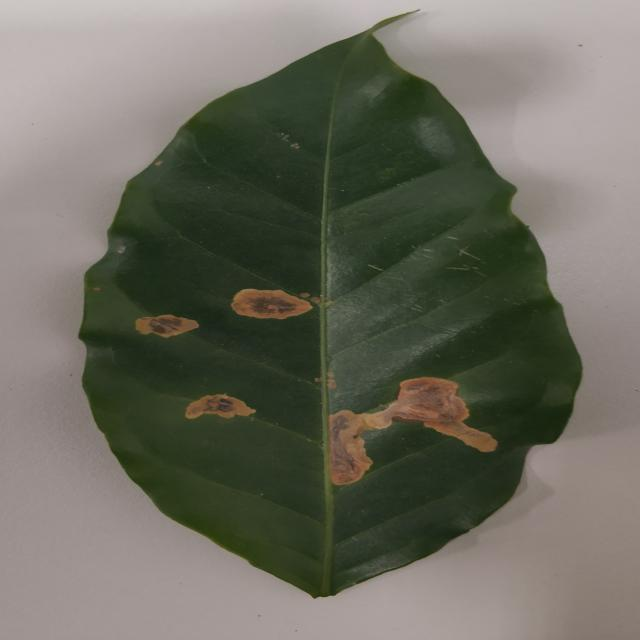Plaga-Minador: (77, 13, 584, 601)
